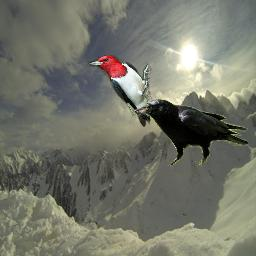Crow: (133, 99, 248, 166)
Woodpecker: (86, 55, 154, 127)
